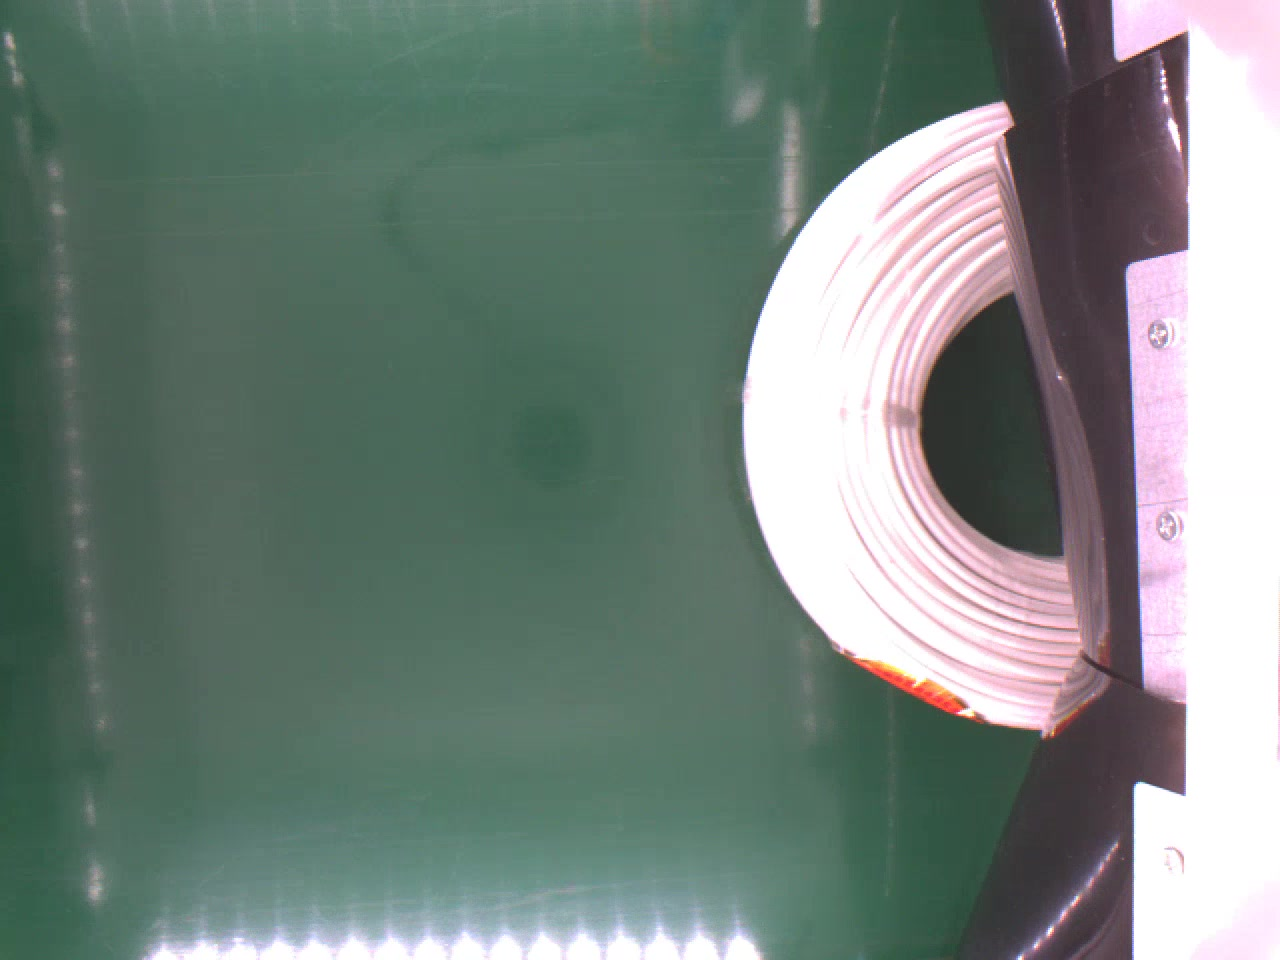white: (739, 93, 1080, 733)
